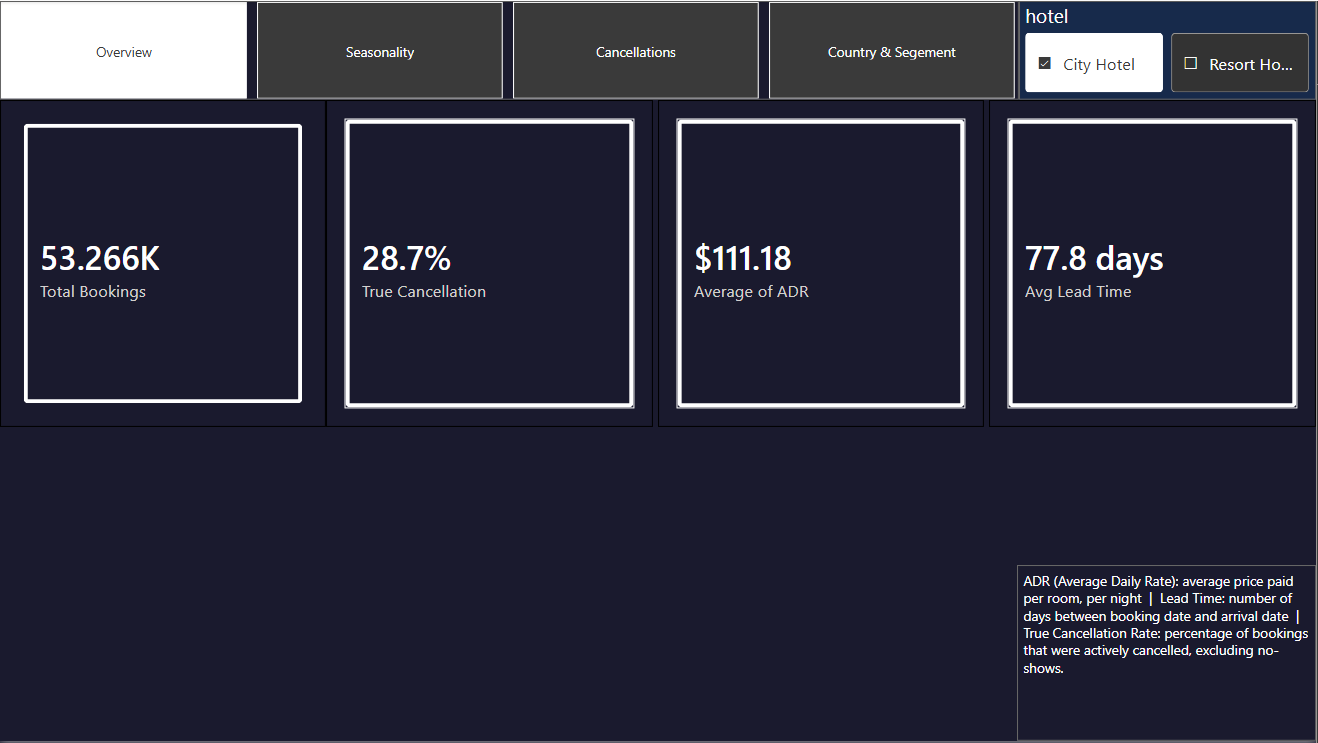

The page's visual inventory and layout, read from the dashboard file:
{"tool":"powerbi","page":{"name":"Overview","canvas":[1280,720],"ordinal":0},"visuals":[{"type":"cardVisual","title":"Total Bookings","fields":{"Data":["CountNonNull(Sheet1.hotel)"]},"box":[0,96.3,317.1,318.1],"z":0},{"type":"cardVisual","fields":{"Data":["Sheet1.True Cancellation"]},"box":[317.1,96.3,318.1,318.1],"z":1000},{"type":"cardVisual","fields":{"Data":["Avg(Sheet1.adr)"]},"box":[640,96.3,317.1,318.1],"z":2000},{"type":"cardVisual","fields":{"Data":["Sheet1.Avg Lead Time Label"]},"box":[961.9,96.3,318.1,318.1],"z":3000},{"type":"advancedSlicerVisual","fields":{"Values":["Sheet1.hotel"]},"box":[991.3,0,288.7,95.9],"z":4000},{"type":"pageNavigator","box":[0,0,991.1,96.3],"z":5000},{"type":"textbox","box":[989.2,548.6,290.8,171.2],"z":6000}]}

Visuals, with their boxes in screenshot pixels (x1, y1, x2, y2), scaled from the page's 1280x720 canvas onto the 1318x743 screenshot:
"Total Bookings" cardVisual: [0,99,327,428]
cardVisual - Sheet1.True Cancellation: [327,99,654,428]
cardVisual - Avg(Sheet1.adr): [659,99,986,428]
cardVisual - Sheet1.Avg Lead Time Label: [990,99,1317,428]
advancedSlicerVisual - Sheet1.hotel: [1021,0,1317,99]
pageNavigator: [0,0,1021,99]
textbox: [1019,566,1317,742]
